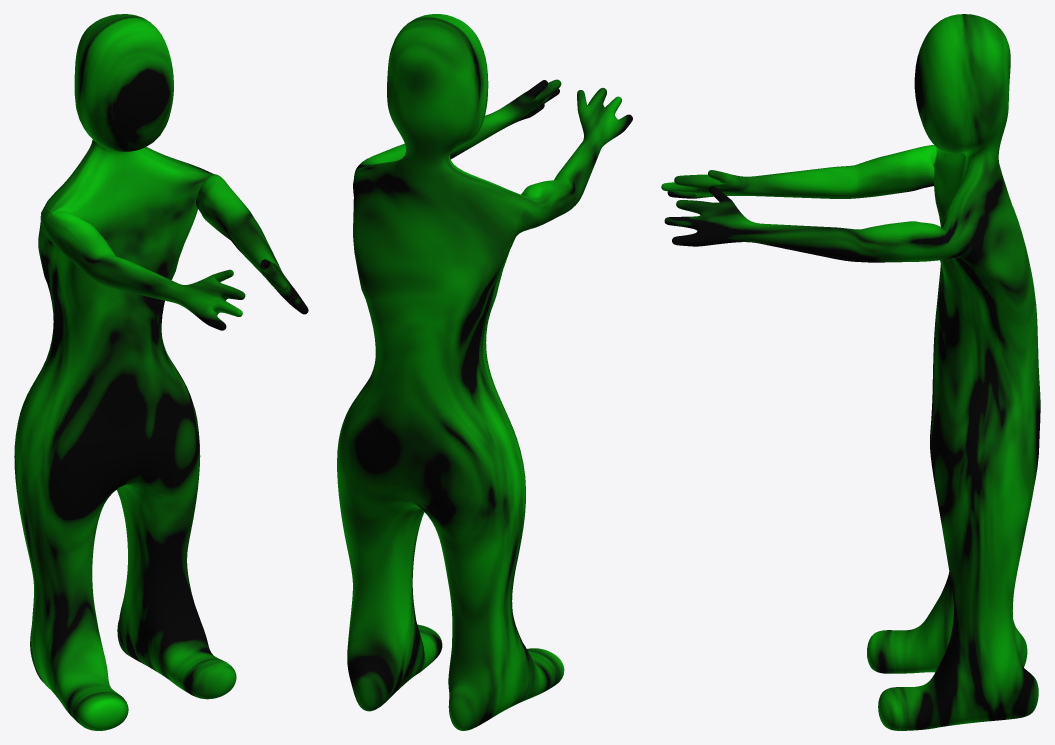
File: ludzik_v4_destroy2.fbx
3 views of the same model, side by side, from view 1: azimuth 30°, elevation 25°; view 2: azimuth 150°, elevation 25°; view 3: azimuth 270°, elevation 25° (orthographic). The views are drawn at different scales.
Visible parts, largest first — view 1: Ludzik, Ludzik_cell.004, Ludzik_cell.012, Ludzik_cell.005, Ludzik_cell.011, Ludzik_cell.001, Ludzik_cell.013, Ludzik_cell.006, Ludzik_cell.003; view 2: Ludzik, Ludzik_cell.011, Ludzik_cell.004, Ludzik_cell.003, Ludzik_cell.012, Ludzik_cell.006, Ludzik_cell.005; view 3: Ludzik, Ludzik_cell.003, Ludzik_cell.012, Ludzik_cell.004, Ludzik_cell.013, Ludzik_cell.011, Ludzik_cell.001, Ludzik_cell.005, Ludzik_cell.008.
Boxes of the visible parts, bbox=[...] form: Ludzik: bbox=[14, 14, 308, 730]; Ludzik_cell.004: bbox=[15, 238, 198, 464]; Ludzik_cell.012: bbox=[39, 72, 182, 266]; Ludzik_cell.005: bbox=[78, 23, 172, 122]; Ludzik_cell.011: bbox=[14, 447, 197, 713]; Ludzik_cell.001: bbox=[153, 161, 248, 261]; Ludzik_cell.013: bbox=[111, 238, 177, 342]; Ludzik_cell.006: bbox=[41, 210, 85, 273]; Ludzik_cell.003: bbox=[117, 499, 233, 678]; Ludzik: bbox=[337, 14, 632, 727]; Ludzik_cell.011: bbox=[337, 465, 556, 730]; Ludzik_cell.004: bbox=[362, 259, 523, 494]; Ludzik_cell.003: bbox=[347, 581, 433, 711]; Ludzik_cell.012: bbox=[381, 107, 567, 260]; Ludzik_cell.006: bbox=[517, 188, 573, 232]; Ludzik_cell.005: bbox=[396, 14, 488, 135]; Ludzik: bbox=[661, 14, 1040, 730]; Ludzik_cell.003: bbox=[881, 558, 1038, 723]; Ludzik_cell.012: bbox=[867, 77, 1006, 227]; Ludzik_cell.004: bbox=[930, 279, 1040, 499]; Ludzik_cell.013: bbox=[936, 265, 1032, 386]; Ludzik_cell.011: bbox=[897, 467, 1034, 667]; Ludzik_cell.001: bbox=[867, 207, 1004, 298]; Ludzik_cell.005: bbox=[915, 16, 1006, 120]; Ludzik_cell.008: bbox=[873, 630, 946, 667].
Size of the model in its own units: 93.47 by 331 by 167.
Materials: 1 (1 with a texture image).
